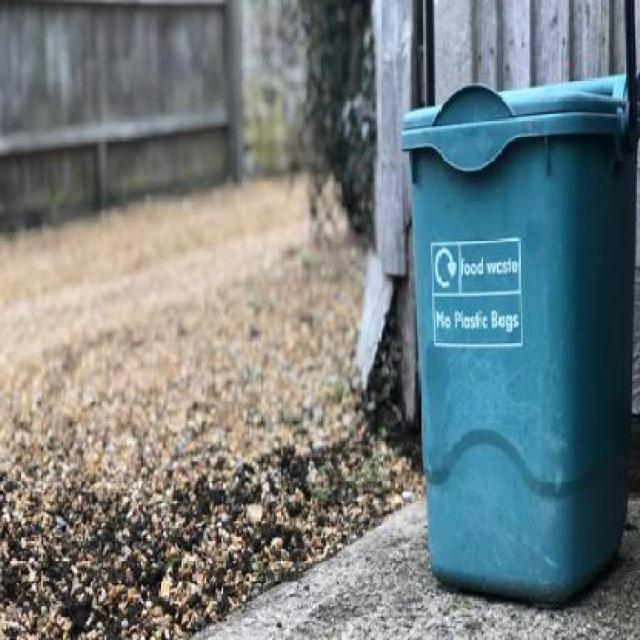garbage container: (396, 65, 639, 624)
